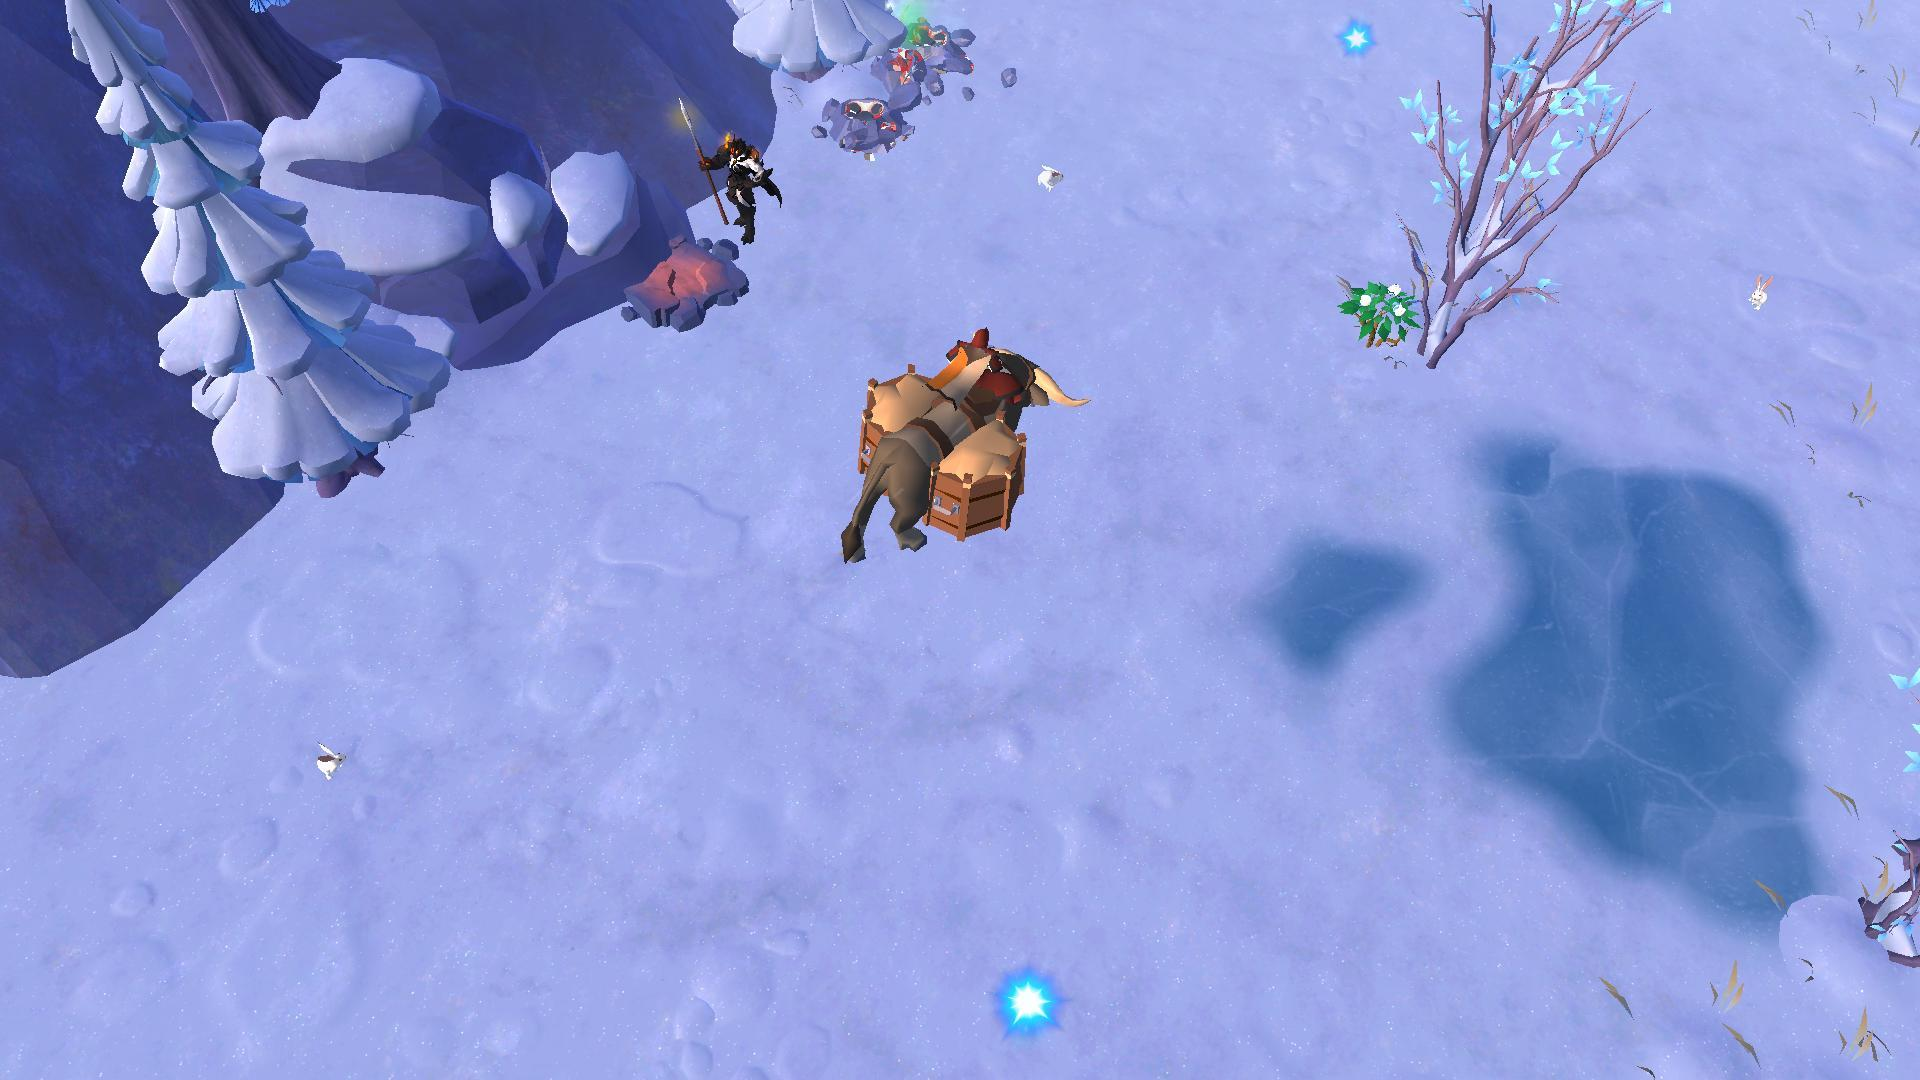fiber_t3: (1340, 280, 1422, 356)
